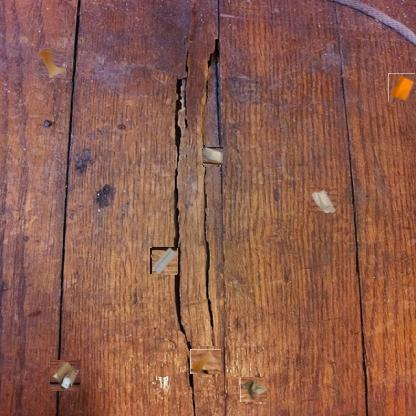dirty: (50, 360, 81, 391), (150, 247, 178, 275), (388, 73, 415, 102), (312, 187, 338, 213), (241, 378, 267, 403), (202, 146, 222, 166)
liquid: (38, 49, 66, 78), (192, 348, 219, 375)
